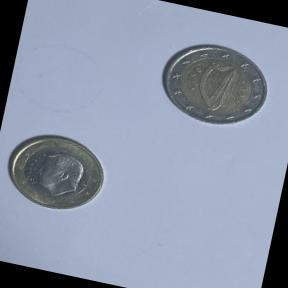coin: (144, 28, 280, 142), (0, 117, 119, 223)
